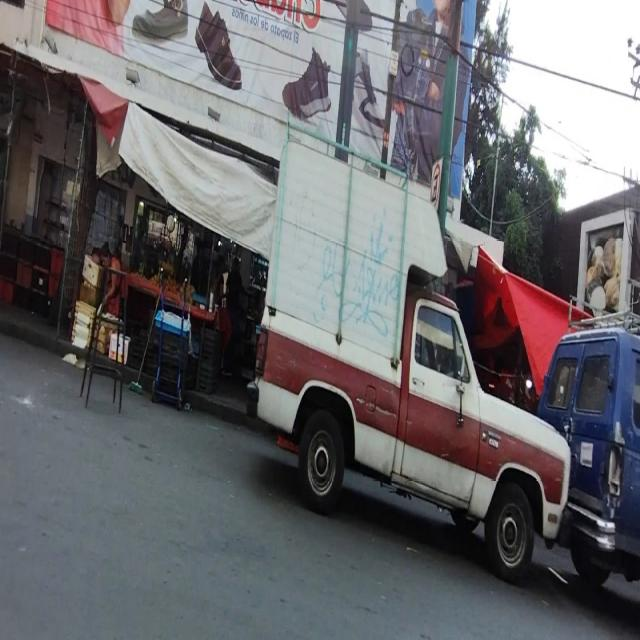adult: (101, 243, 128, 312)
